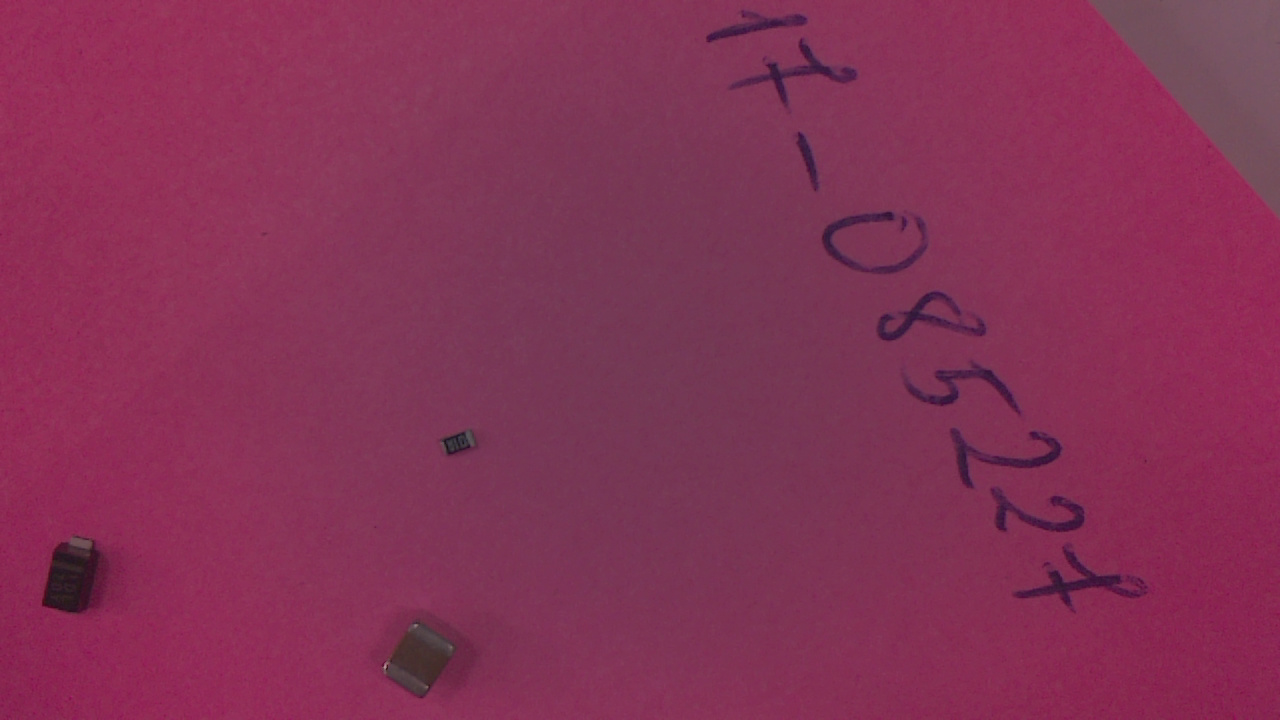Condensator: (384, 625, 462, 703)
Diode: (43, 537, 105, 620)
Resistor: (441, 429, 482, 467)
